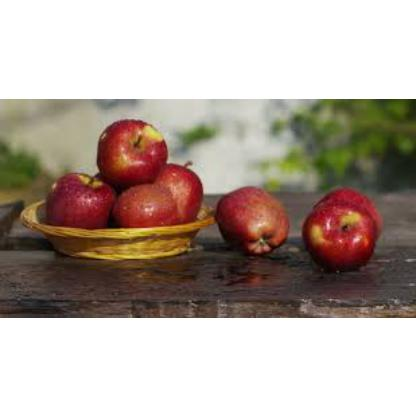apple: (55, 165, 111, 233), (102, 114, 162, 172), (118, 183, 174, 223), (165, 162, 205, 216)
